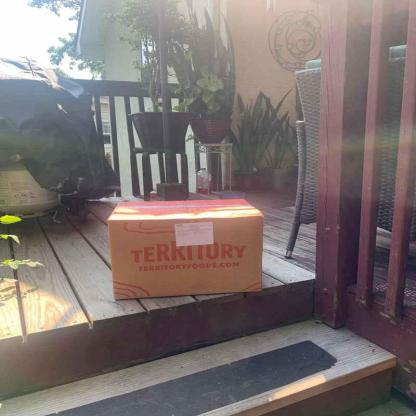label: (173, 222, 215, 245)
package: (107, 199, 264, 299)
